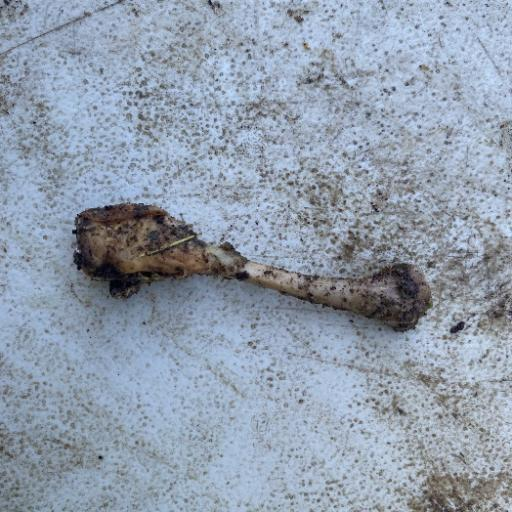Waste: (70, 200, 434, 334)
